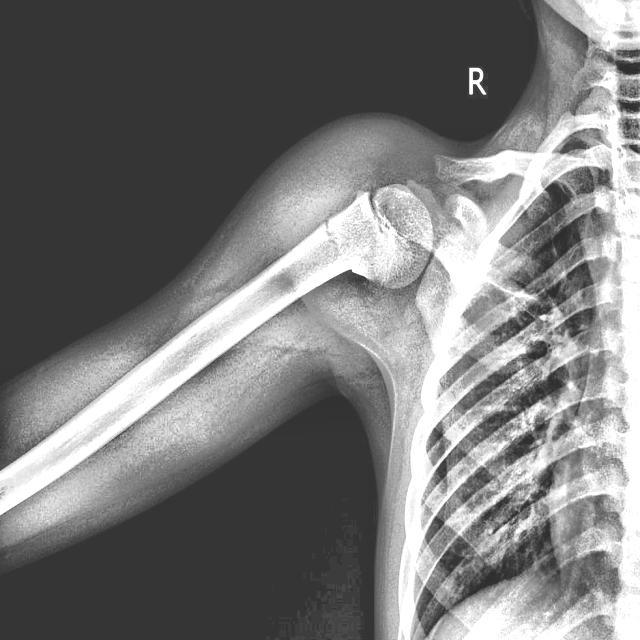fracture: (324, 218, 350, 264)
